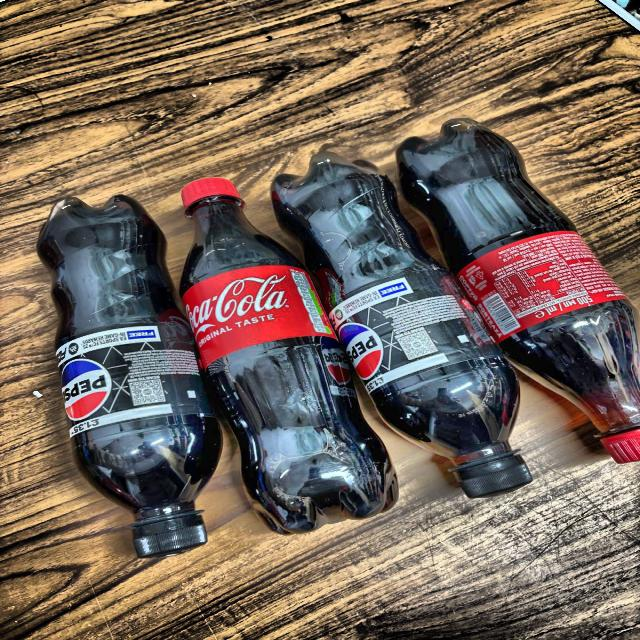coke-bottle: (405, 112, 640, 466), (179, 168, 408, 524)
pepsi-bottle: (272, 142, 536, 508), (45, 188, 219, 558)
